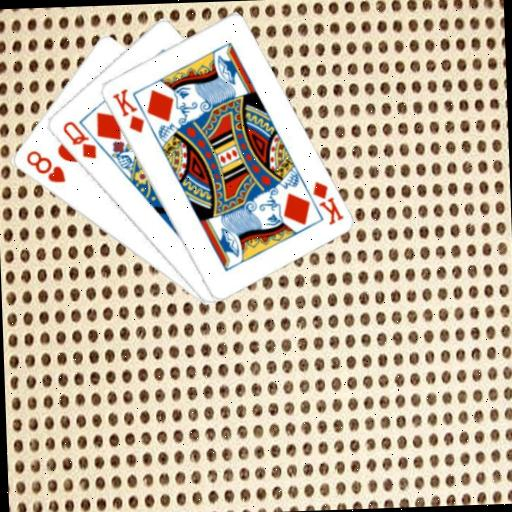8H: (22, 146, 67, 186)
KD: (108, 84, 146, 135), (308, 176, 345, 226)
QD: (59, 116, 98, 161)
